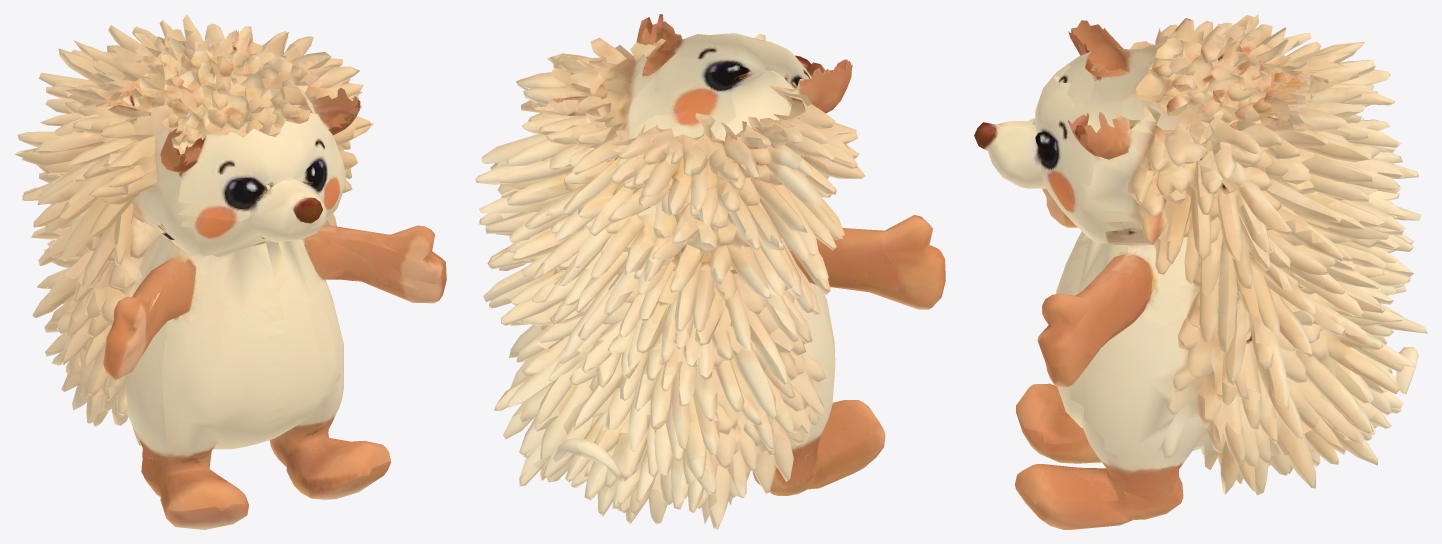
Rendered from hedgehog.glb.
3 renders of one model, left to right at view 1: azimuth 30°, elevation 25°; view 2: azimuth 150°, elevation 25°; view 3: azimuth 270°, elevation 25°, orthographic. The views are drawn at different scales.
Size of the model in its own units: 1.45 by 1.61 by 1.57.
1 material, 1 textured.
